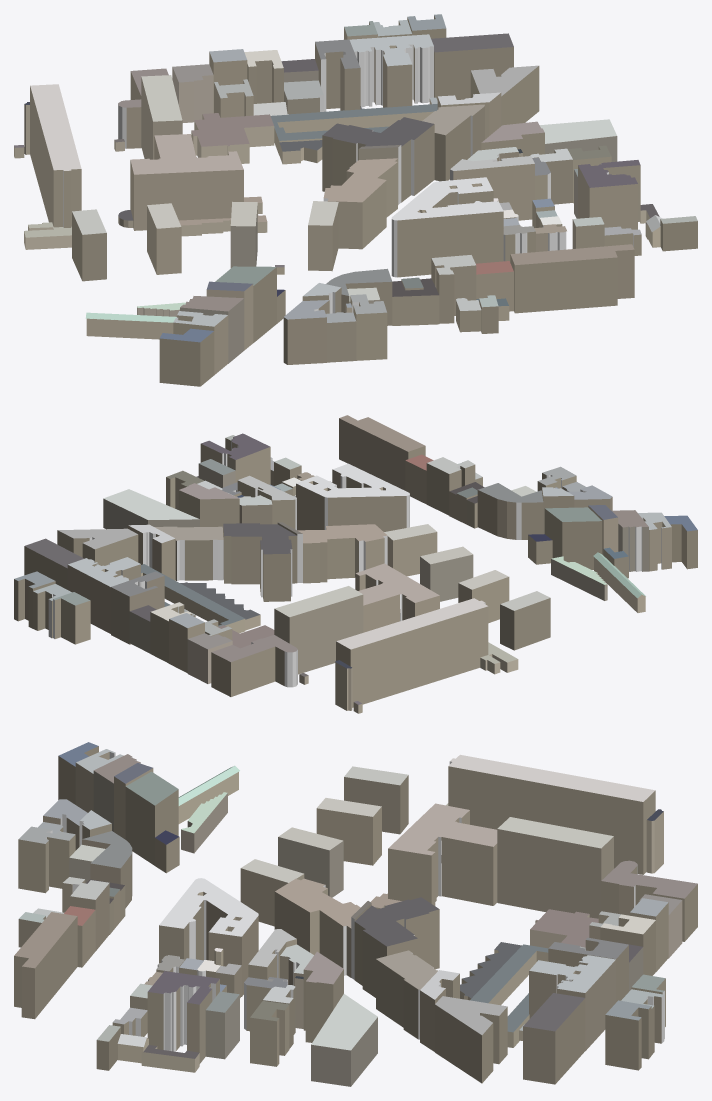
3 renders of one model, top to bottom at view 1: azimuth 30°, elevation 25°; view 2: azimuth 150°, elevation 25°; view 3: azimuth 270°, elevation 25°, orthographic. The views are drawn at different scales.
Visible parts, largest first — view 1: tuile; view 2: tuile; view 3: tuile.
Boxes of the visible parts, <box> form: tuile: <box>14,14,697,386</box>; tuile: <box>14,415,697,713</box>; tuile: <box>14,742,697,1086</box>.
Bounding box in the file's own units: 282 × 34.57 × 272.
